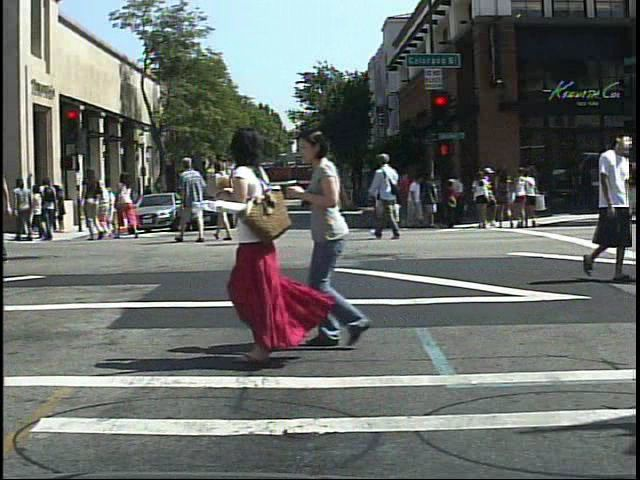person: (208, 126, 319, 367), (294, 122, 384, 353), (582, 123, 639, 285), (169, 153, 207, 245), (370, 149, 405, 241), (212, 155, 240, 245), (475, 164, 508, 232), (79, 166, 109, 240), (113, 168, 140, 242), (471, 167, 496, 234), (38, 176, 61, 243), (13, 177, 34, 243)
